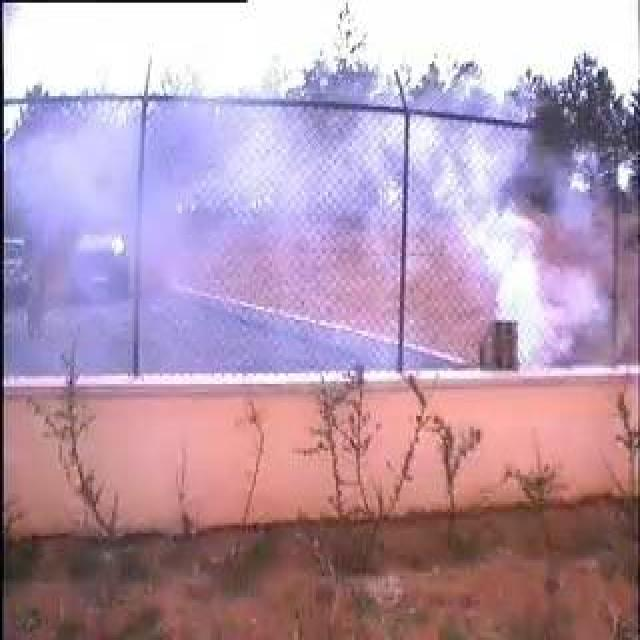Smoke: (25, 109, 559, 360)
